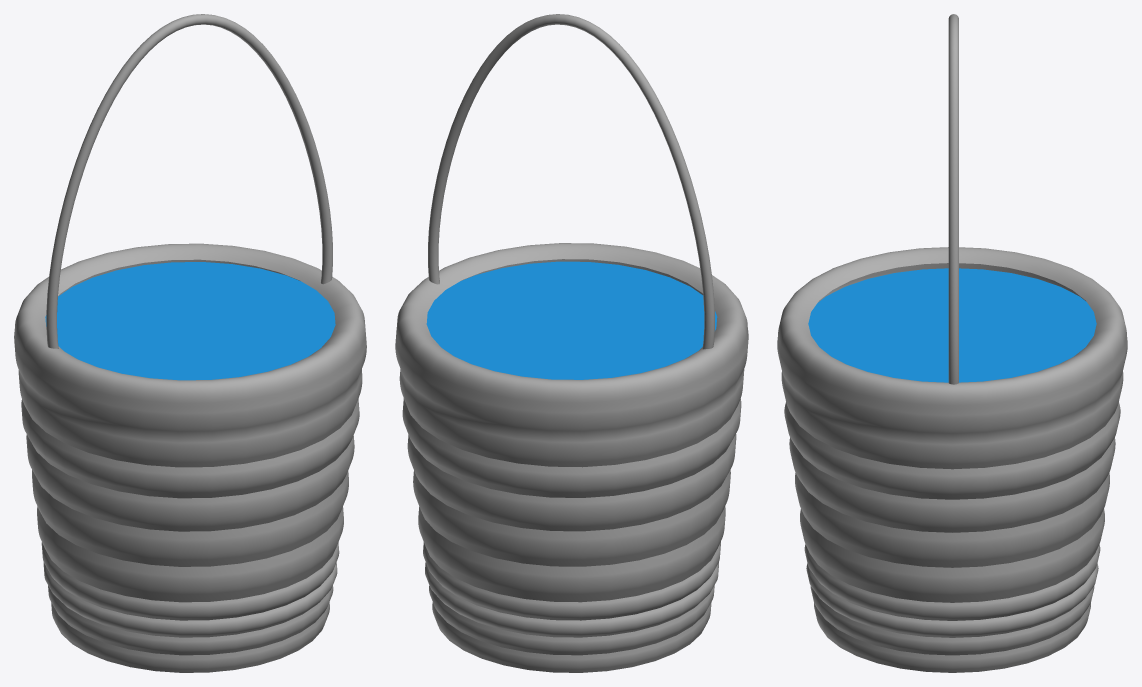
Rendered from WAA.fbx.
The picture shows the model from 3 angles, left to right: view 1: azimuth 30°, elevation 25°; view 2: azimuth 150°, elevation 25°; view 3: azimuth 270°, elevation 25°; orthographic projection.
Parts seen in each view (by area): view 1: Cylinder, Cylinder.001, NurbsPath; view 2: Cylinder, Cylinder.001, NurbsPath; view 3: Cylinder, Cylinder.001, NurbsPath.
Boxes of the visible parts, x1,y1,x2,y2 form: Cylinder: (14,243,366,672); Cylinder.001: (45,262,335,380); NurbsPath: (46,14,332,348); Cylinder: (395,243,748,672); Cylinder.001: (426,261,717,379); NurbsPath: (428,14,714,349); Cylinder: (777,247,1127,672); Cylinder.001: (808,268,1096,382); NurbsPath: (948,14,958,384).
Size of the model in its own units: 330 by 616 by 330.
